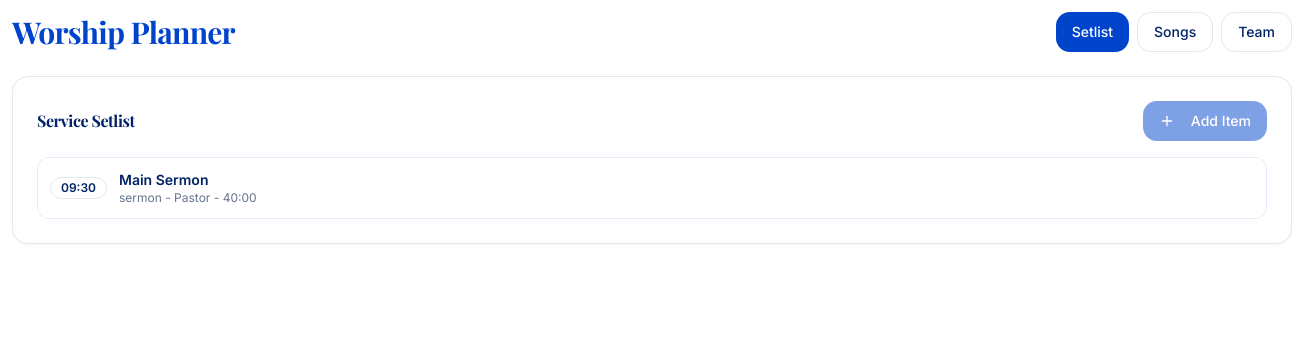
Test case: Event Modules Permission Guarding › disables worship module actions for unauthorized users
Check: the button "Add Item" is disabled, box top-left (1143, 101), bottom-right (1267, 141)
Click the button "Songs" at x=1175, y=32, box top-left (1137, 12), bottom-right (1213, 52)
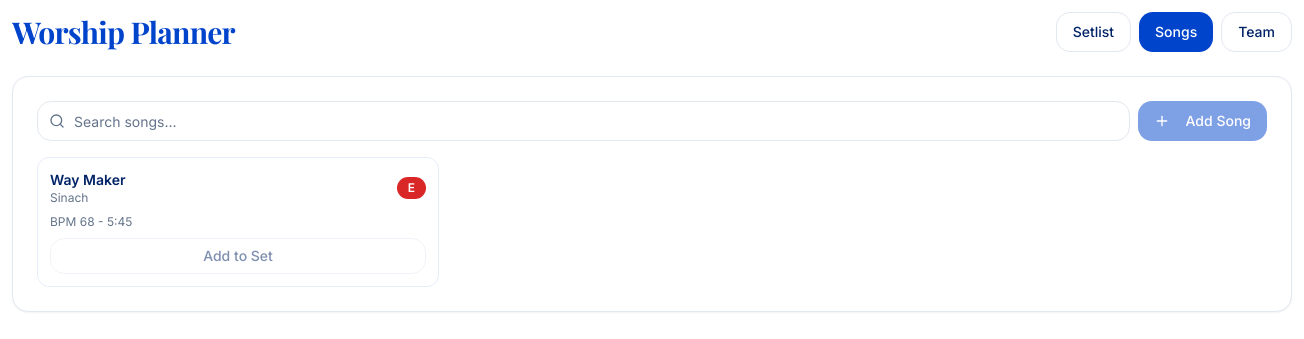
Check: the button "Add Song" is disabled, box top-left (1138, 101), bottom-right (1267, 141)
Click the button "Team" at x=1257, y=32, box top-left (1221, 12), bottom-right (1292, 52)
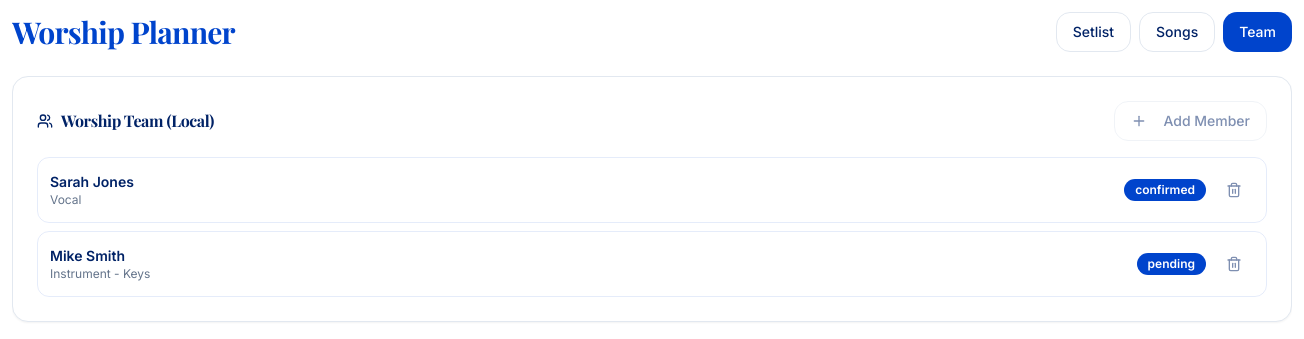
Check: the button "Add Member" is disabled, box top-left (1114, 101), bottom-right (1267, 141)
Check: the button named "remove team member" is disabled, box top-left (1214, 170), bottom-right (1254, 210)
